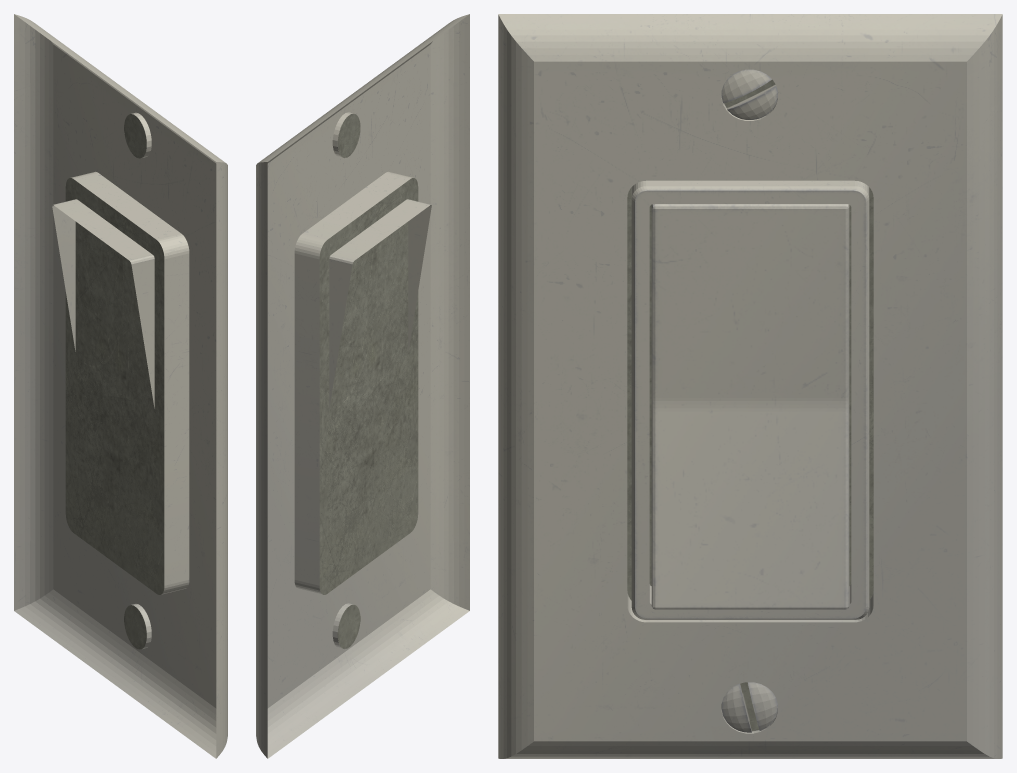
The model's file is LightSwitch.obj.
3 views of the same model, side by side, from view 1: azimuth 30°, elevation 25°; view 2: azimuth 150°, elevation 25°; view 3: azimuth 270°, elevation 25° (orthographic). The views are drawn at different scales.
Visible parts, largest first — view 1: CoverPlate_001_lightswitch_0, Switch_001_lightswitch_0; view 2: CoverPlate_001_lightswitch_0, Switch_001_lightswitch_0; view 3: CoverPlate_001_lightswitch_0, Switch_001_lightswitch_0, SwitchHolder_001_lightswitch_0, ScrewTop_001_lightswitch_0, ScrewBottom_001_lightswitch_0.
Boxes of the visible parts, bbox=[...] form: CoverPlate_001_lightswitch_0: bbox=[14, 14, 227, 758]; Switch_001_lightswitch_0: bbox=[52, 199, 154, 408]; CoverPlate_001_lightswitch_0: bbox=[256, 14, 469, 758]; Switch_001_lightswitch_0: bbox=[329, 199, 431, 408]; CoverPlate_001_lightswitch_0: bbox=[498, 14, 1002, 758]; Switch_001_lightswitch_0: bbox=[651, 204, 849, 609]; SwitchHolder_001_lightswitch_0: bbox=[631, 180, 869, 619]; ScrewTop_001_lightswitch_0: bbox=[721, 69, 777, 119]; ScrewBottom_001_lightswitch_0: bbox=[721, 682, 777, 732].
Size of the model in its own units: 0.0153 by 0.114 by 0.07.
1 material, 1 textured.
